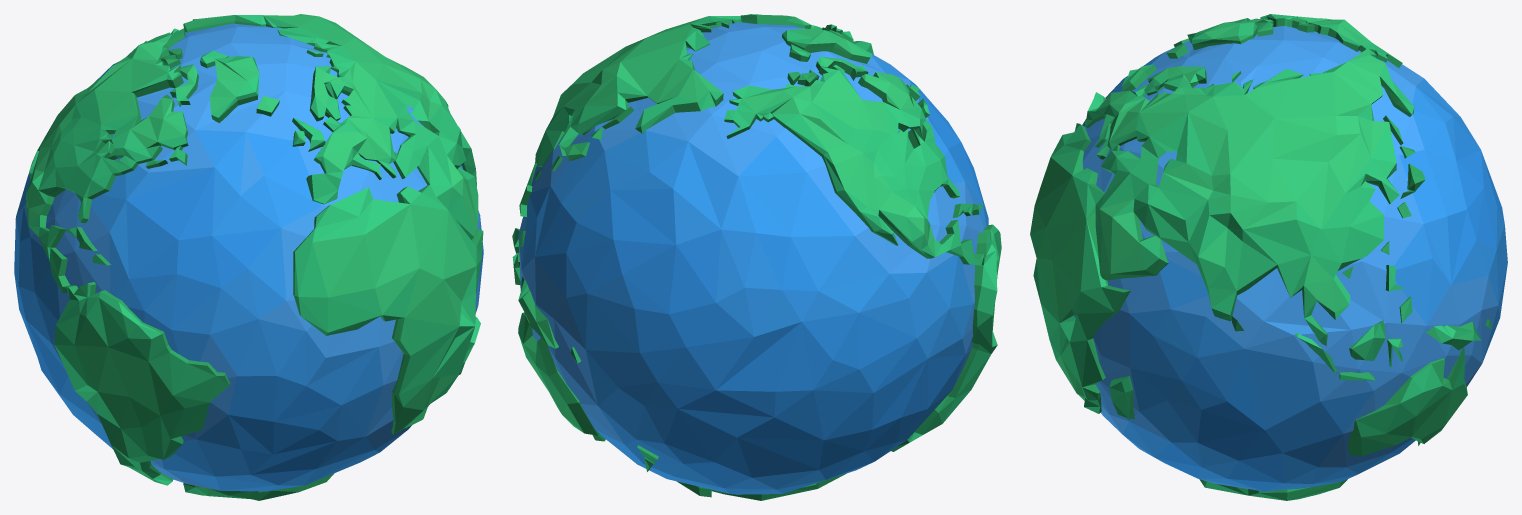
File: earth.gltf
The picture shows the model from 3 angles, left to right: view 1: azimuth 30°, elevation 25°; view 2: azimuth 150°, elevation 25°; view 3: azimuth 270°, elevation 25°; orthographic projection.
Parts seen in each view (by area): view 1: flatEarth_lands_lpEarthMat_0; view 2: flatEarth_lands_lpEarthMat_0; view 3: flatEarth_lands_lpEarthMat_0.
Part boxes in pixels (x1,y1,x2,y2): flatEarth_lands_lpEarthMat_0: (14,14,483,500); flatEarth_lands_lpEarthMat_0: (512,14,1001,500); flatEarth_lands_lpEarthMat_0: (1030,14,1507,500).
Bounding box in the file's own units: 112 × 112 × 111.
1 material, 1 textured.
